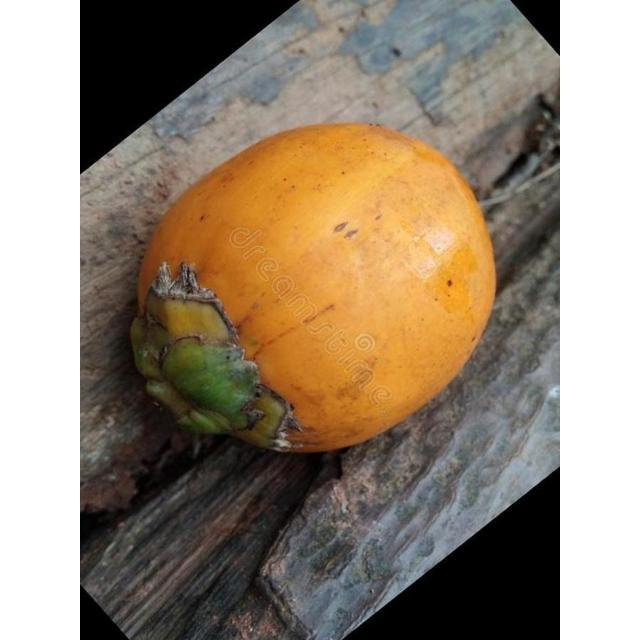good: (126, 121, 499, 457)
